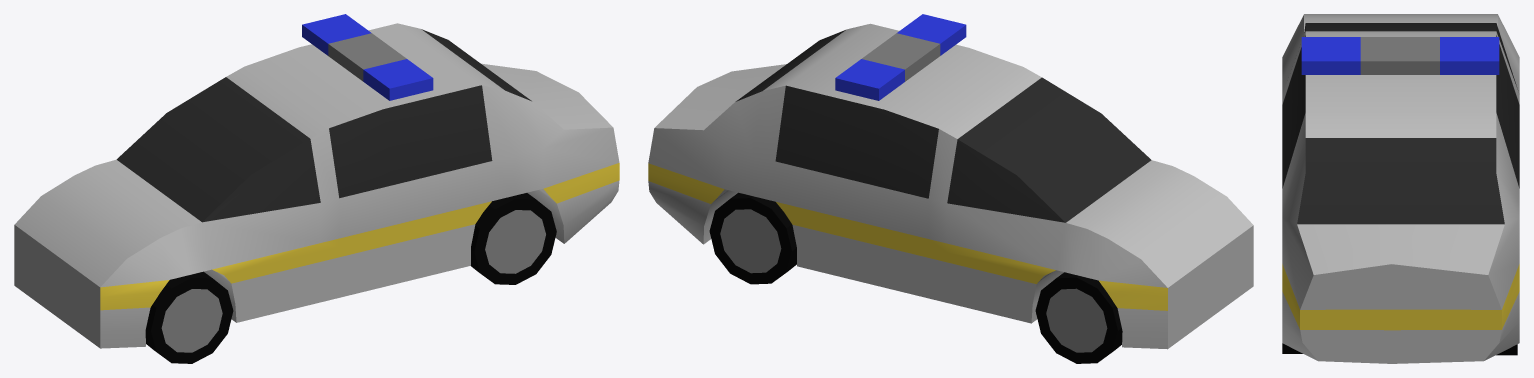
File: police_car.fbx
The picture shows the model from 3 angles, left to right: view 1: azimuth 30°, elevation 25°; view 2: azimuth 150°, elevation 25°; view 3: azimuth 270°, elevation 25°; orthographic projection. The views are drawn at different scales.
Parts seen in each view (by area): view 1: Cube, Cylinder.004, Cylinder.001, Cube.001; view 2: Cube, Cylinder.003, Cylinder.002, Cube.001; view 3: Cube, Cube.001.
Part boxes in pixels (x1,y1,x2,y2): Cube: (14,23,619,348); Cylinder.004: (145,271,233,363); Cylinder.001: (471,193,556,284); Cube.001: (302,14,433,100); Cube: (648,23,1253,349); Cylinder.003: (709,192,796,284); Cylinder.002: (1035,272,1122,363); Cube.001: (835,14,966,100); Cube: (1282,14,1519,363); Cube.001: (1301,37,1499,74).
Bounding box in the file's own units: 1254 × 507 × 441.
